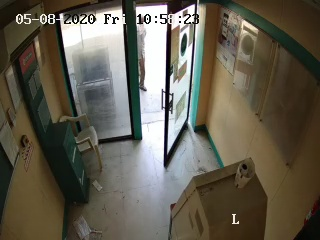open: (120, 2, 196, 174)
